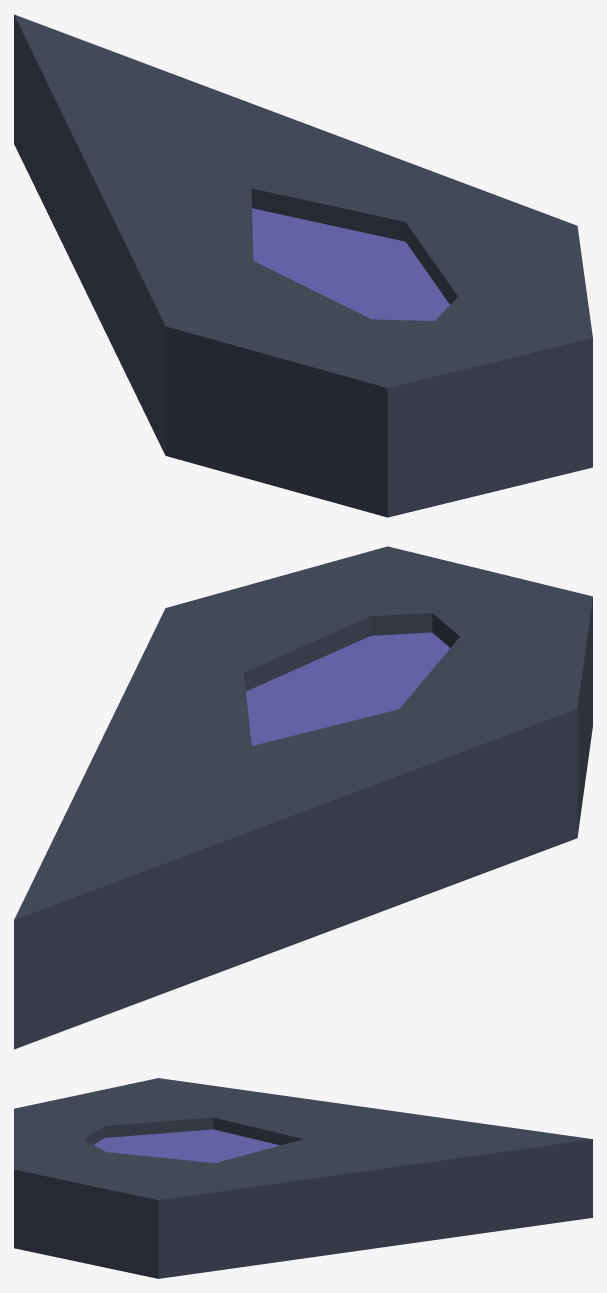
File: maidstage2_asiba.fbx
3 renders of one model, top to bottom at view 1: azimuth 30°, elevation 25°; view 2: azimuth 150°, elevation 25°; view 3: azimuth 270°, elevation 25°, orthographic. The views are drawn at different scales.
Visible parts, largest first — view 1: Cube; view 2: Cube; view 3: Cube.
Boxes of the visible parts, box(x1,y1,x2,y2) form: Cube: box(14, 14, 592, 517); Cube: box(14, 546, 592, 1049); Cube: box(14, 1078, 592, 1278).
Bounding box in the file's own units: 200 × 60 × 400.
